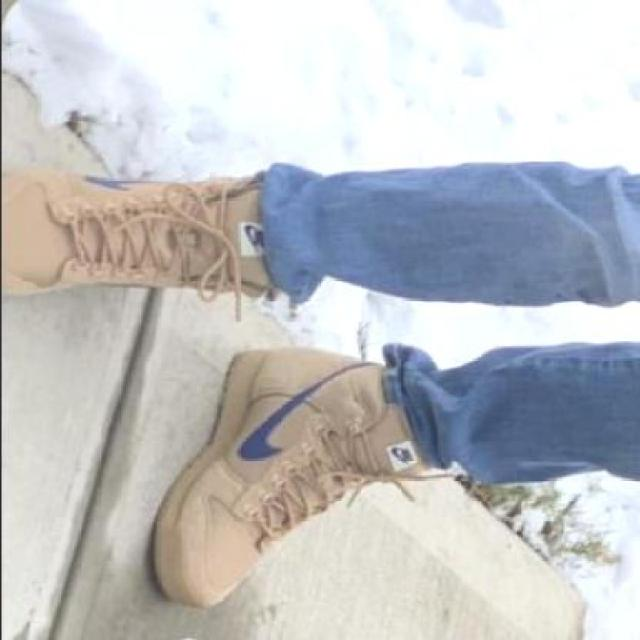shoe: (148, 339, 373, 616), (5, 168, 280, 301)
